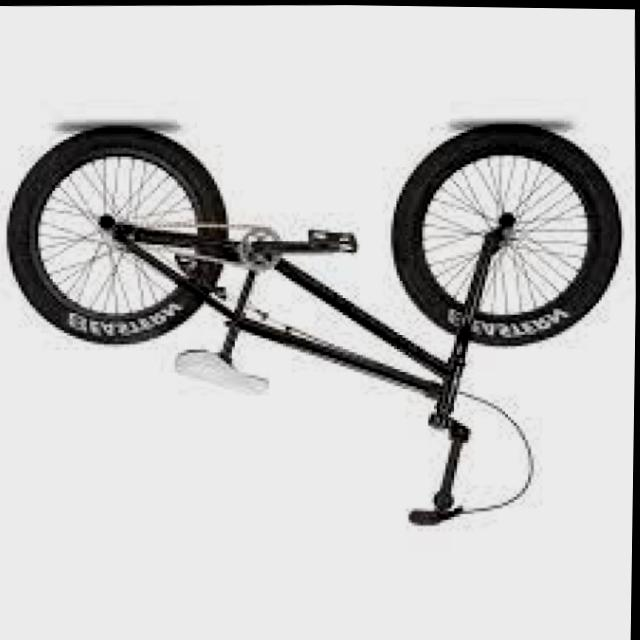bmx-bike: (0, 116, 628, 535)
